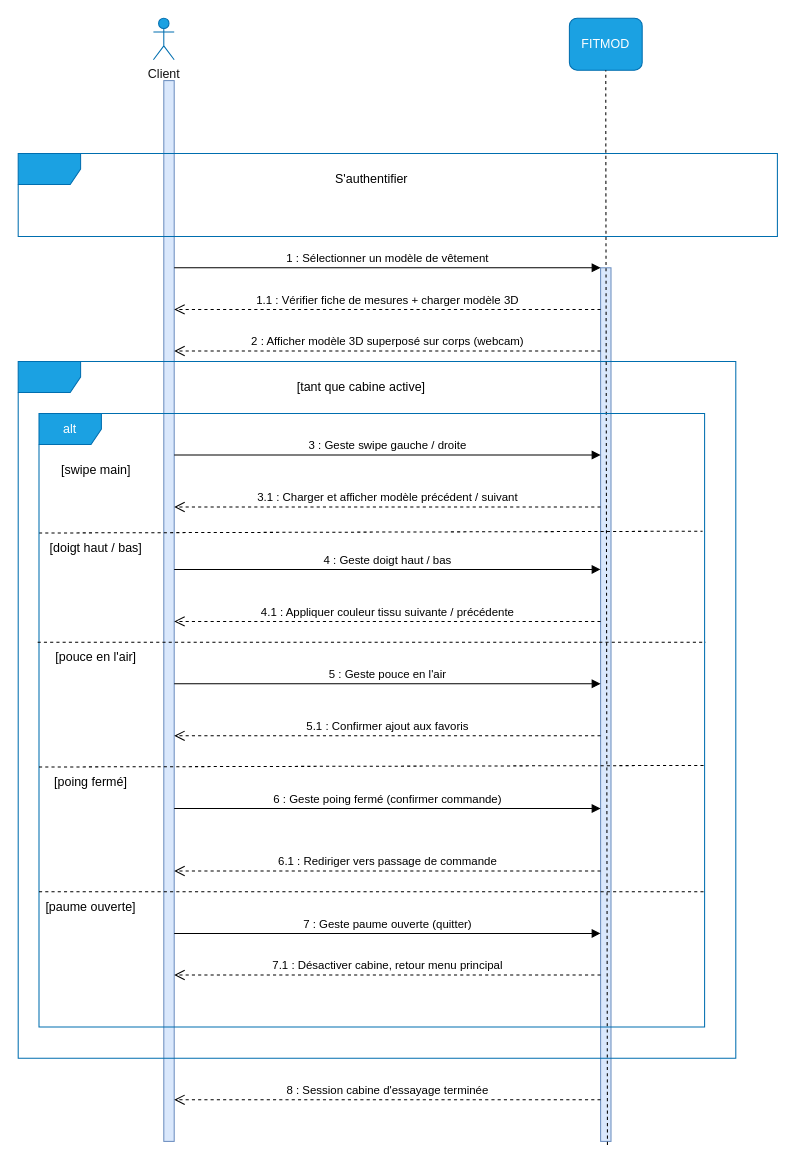
Image size: 796x1165. Some labels were removed from this diagram. The shapes that lost their labels are listed below. From the top down, each one's box as (x1, y1, x2, y2) in pixels, then its label:
(17, 152, 777, 237): ref
(17, 360, 736, 1058): loop
